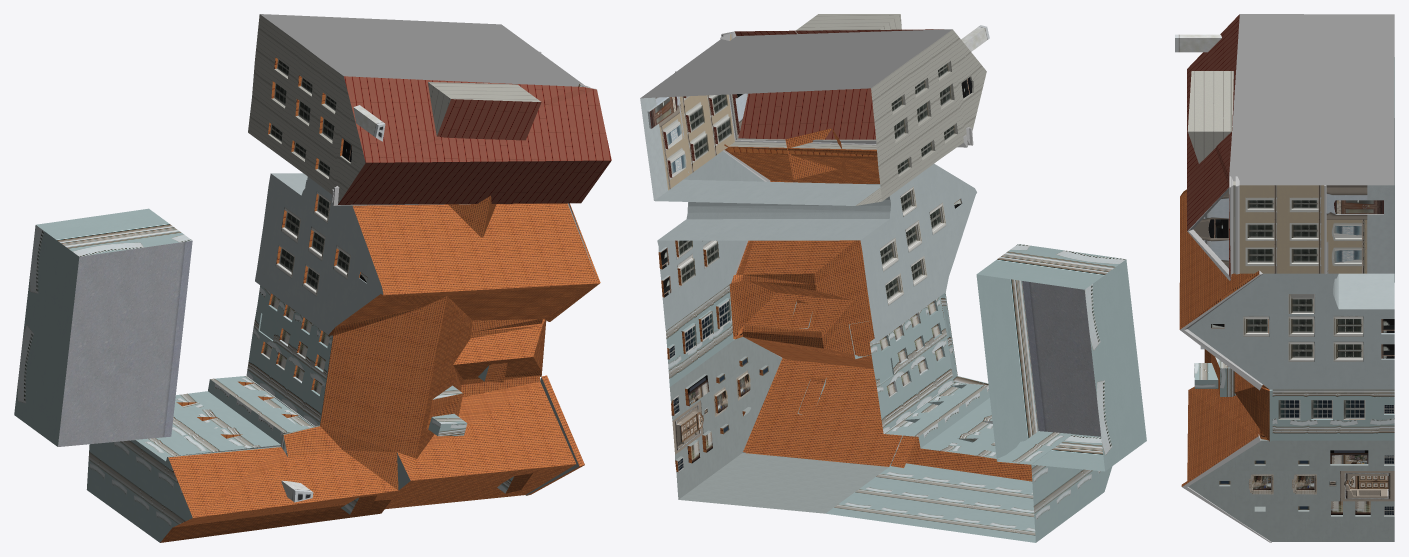
File: Ryytli_tn_6_IS-origo.obj
3 views of the same model, side by side, from view 1: azimuth 30°, elevation 25°; view 2: azimuth 150°, elevation 25°; view 3: azimuth 270°, elevation 25° (orthographic). The views are drawn at different scales.
Visible parts, largest first — view 1: Ryytli_tn_6_IS; view 2: Ryytli_tn_6_IS; view 3: Ryytli_tn_6_IS.
Part boxes in pixels (bbox=[...]): Ryytli_tn_6_IS: bbox=[14, 14, 611, 542]; Ryytli_tn_6_IS: bbox=[640, 14, 1146, 542]; Ryytli_tn_6_IS: bbox=[1175, 14, 1394, 542].
Bounding box in the file's own units: 44.5 × 41.5 × 18.87.
